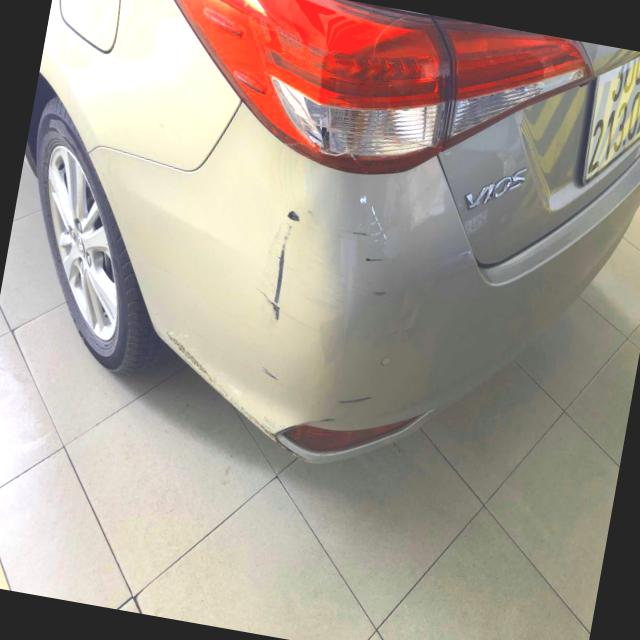Phare abime: (305, 107, 364, 165)
Rayure: (264, 200, 307, 326), (335, 386, 381, 413), (341, 224, 384, 242), (256, 367, 299, 385), (361, 252, 386, 266)
